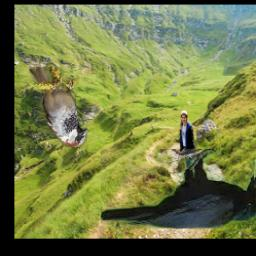Crow: (101, 150, 256, 229)
Sparrow: (30, 67, 88, 147)
